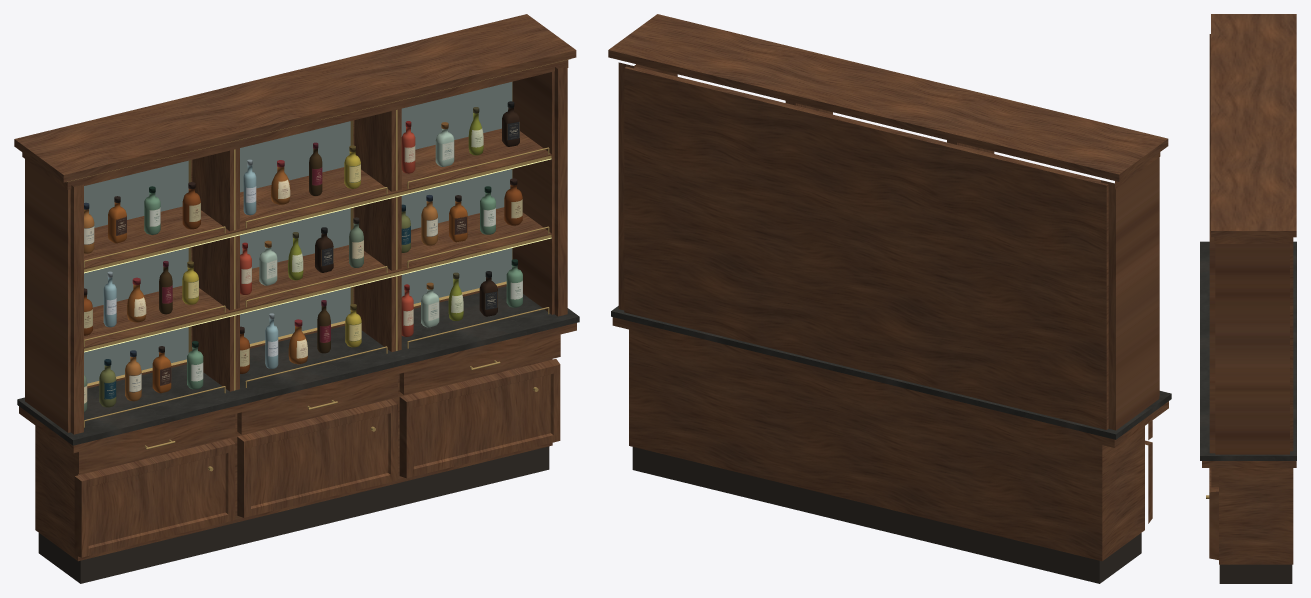
File: minato-walnut-backbar.glb
3 views of the same model, side by side, from view 1: azimuth 30°, elevation 25°; view 2: azimuth 150°, elevation 25°; view 3: azimuth 270°, elevation 25° (orthographic). The views are drawn at different scales.
Visible parts, largest first — view 1: Backbar / Wood, Backbar / Smoked backing, Backbar / Bottle bodies, Backbar / Slate, Backbar / Dark hardware, Backbar / Brass, Backbar / Bottle labels, Backbar / Lamp diffusers; view 2: Backbar / Wood, Backbar / Dark hardware, Backbar / Slate; view 3: Backbar / Wood, Backbar / Slate, Backbar / Dark hardware.
Part boxes in pixels (box(x1,y1,x2,y2)): Backbar / Wood: box(14, 14, 576, 561); Backbar / Smoked backing: box(84, 82, 512, 383); Backbar / Bottle bodies: box(84, 101, 522, 412); Backbar / Slate: box(17, 286, 579, 445); Backbar / Dark hardware: box(38, 446, 549, 583); Backbar / Brass: box(66, 59, 570, 471); Backbar / Bottle labels: box(84, 121, 522, 403); Backbar / Lamp diffusers: box(84, 158, 551, 352); Backbar / Wood: box(608, 14, 1168, 561); Backbar / Dark hardware: box(632, 447, 1141, 583); Backbar / Slate: box(611, 306, 1171, 439); Backbar / Wood: box(1202, 14, 1296, 564); Backbar / Slate: box(1200, 241, 1296, 460); Backbar / Dark hardware: box(1219, 564, 1292, 583).
Size of the model in its own units: 3.39 by 2.64 by 0.64.
8 materials, 3 textured.
